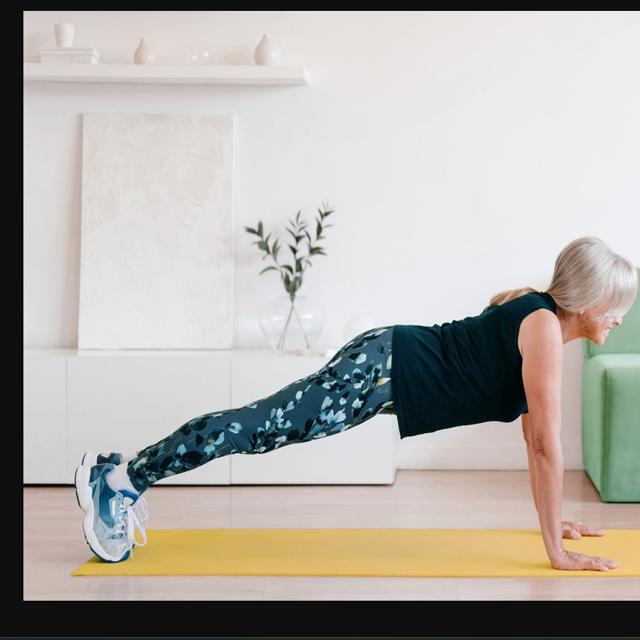Plank_Pose: (73, 236, 640, 584)
